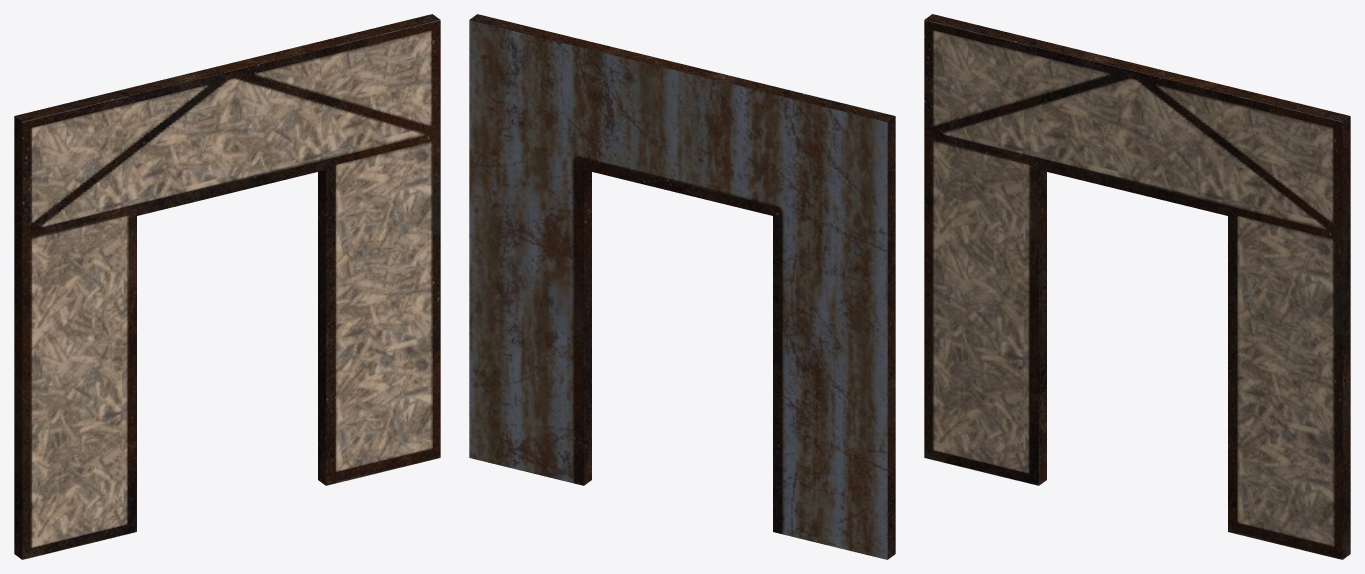
File: metal_doorway_textured.glb
3 views of the same model, side by side, from view 1: azimuth 30°, elevation 25°; view 2: azimuth 150°, elevation 25°; view 3: azimuth 330°, elevation 25° (orthographic).
Parts seen in each view (by area): view 1: Cube.002; view 2: Cube.002; view 3: Cube.002.
Part boxes in pixels (box(x1,y1,x2,y2)): Cube.002: box(14, 14, 440, 559); Cube.002: box(469, 14, 895, 559); Cube.002: box(924, 14, 1350, 559).
Bounding box in the file's own units: 2 × 2 × 0.0681.
Materials: 1 (1 with a texture image).
